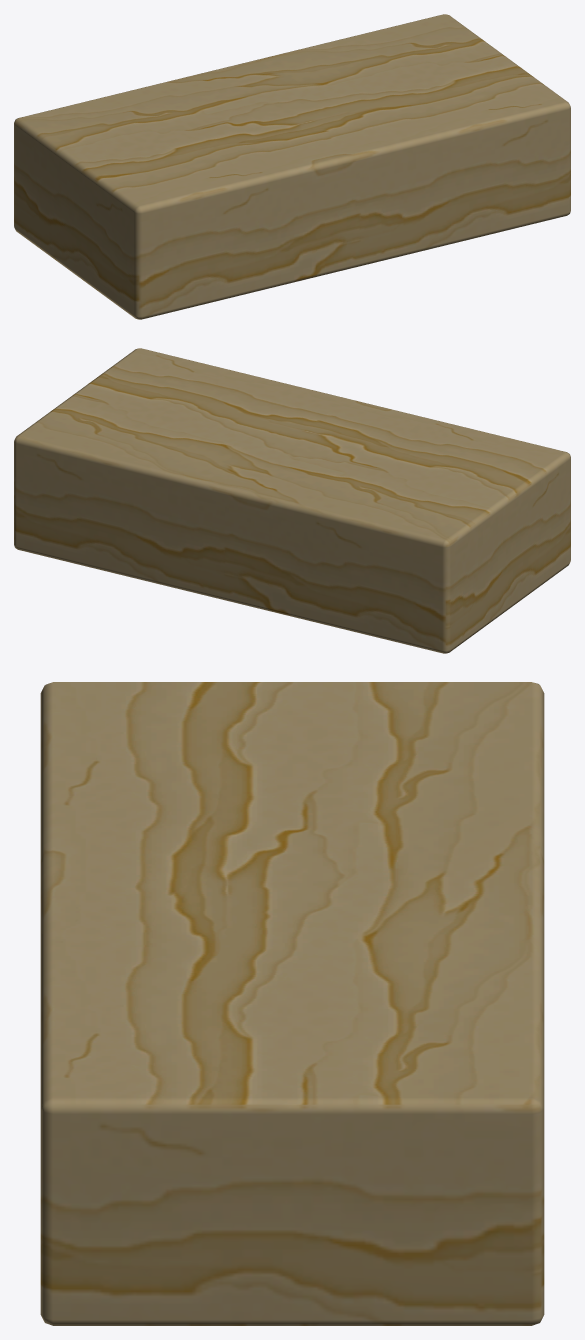
File: SM_Platform_2m_03_B.glb
The picture shows the model from 3 angles, top to bottom: view 1: azimuth 30°, elevation 25°; view 2: azimuth 150°, elevation 25°; view 3: azimuth 270°, elevation 25°; orthographic projection. The views are drawn at different scales.
Parts seen in each view (by area): view 1: SM_Platform_2m_03_B; view 2: SM_Platform_2m_03_B; view 3: SM_Platform_2m_03_B.
Boxes of the visible parts, box(x1,y1,x2,y2) form: SM_Platform_2m_03_B: box(14, 14, 570, 319); SM_Platform_2m_03_B: box(14, 348, 570, 653); SM_Platform_2m_03_B: box(40, 682, 544, 1325).
Size of the model in its own units: 4 by 1 by 2.
1 material, 1 textured.
